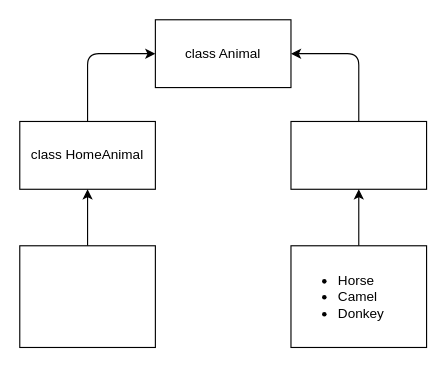
Image size: 446x367. Some labels were removed from this diagram. The box of each missing label's shape, as (x1, y1, x2, y2) in pixels:
class PackAnimal: (290, 120, 427, 189)
Dog Cat Hamster: (19, 245, 155, 347)
